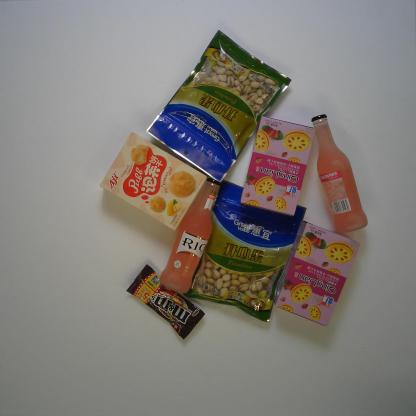Alcohol: (154, 178, 226, 297), (310, 112, 370, 238)
Chocolate: (124, 262, 206, 343)
Dessert: (100, 130, 209, 233), (272, 222, 360, 330), (238, 112, 318, 221)
Dried Fruit: (144, 26, 296, 184), (188, 180, 309, 324)
